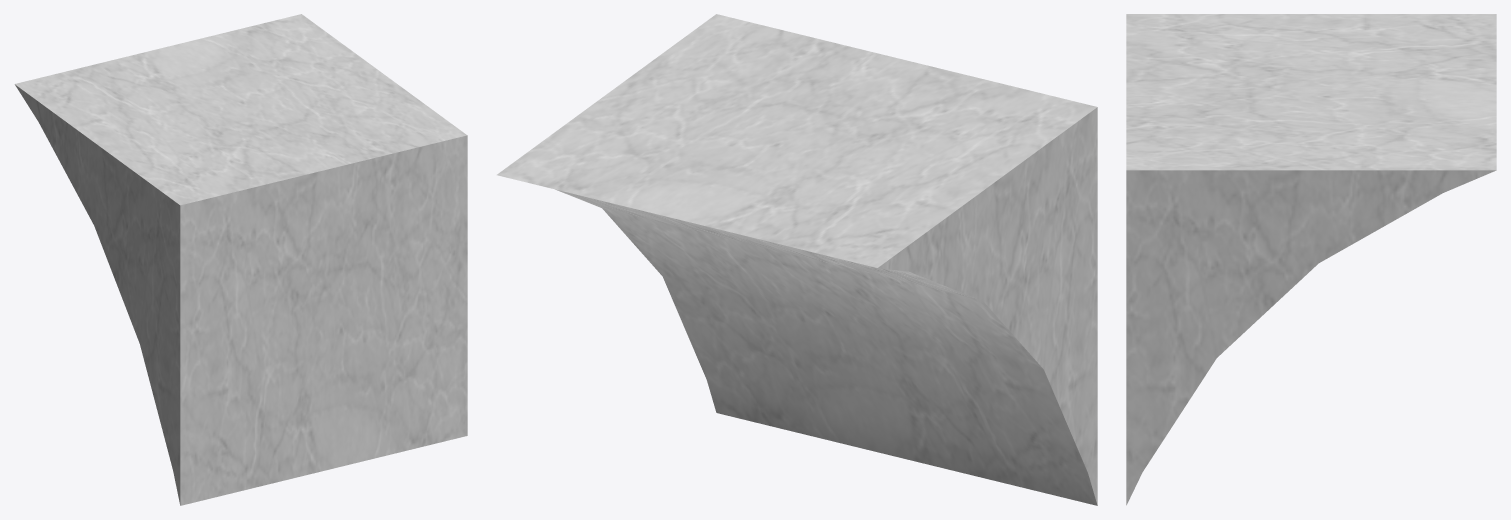
Rendered from POL0310005.fbx.
3 views of the same model, side by side, from view 1: azimuth 30°, elevation 25°; view 2: azimuth 150°, elevation 25°; view 3: azimuth 270°, elevation 25° (orthographic). The views are drawn at different scales.
Visible parts, largest first — view 1: smPOL0310005; view 2: smPOL0310005; view 3: smPOL0310005.
Part boxes in pixels (<box>): smPOL0310005: <box>14,14,467,505</box>; smPOL0310005: <box>497,14,1097,505</box>; smPOL0310005: <box>1126,14,1496,505</box>.
Size of the model in its own units: 161 by 161 by 161.
1 material, 1 textured.
